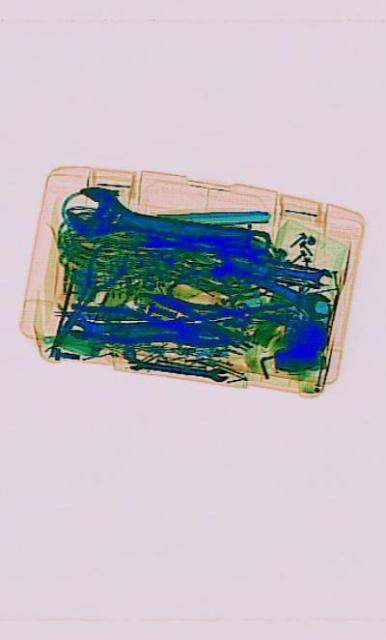Pliers: (41, 225, 128, 362)
Wrench: (62, 181, 270, 267), (242, 259, 329, 323), (126, 353, 226, 382), (67, 316, 158, 340), (267, 257, 330, 289)
